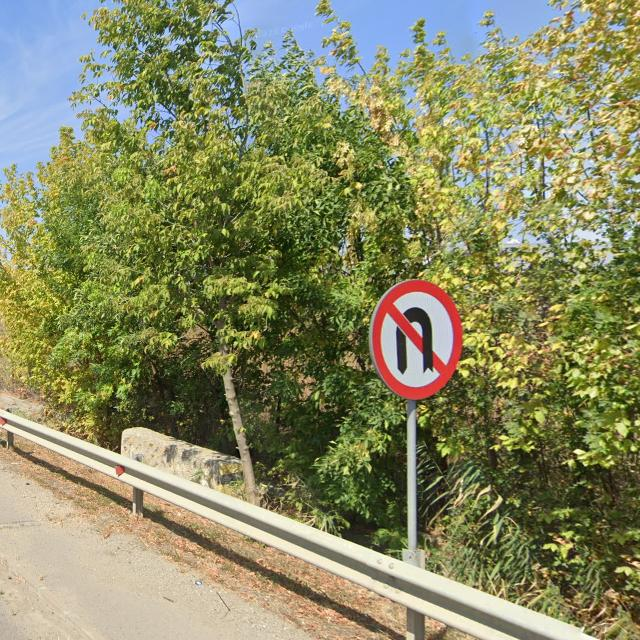forb_u_turn: (370, 278, 464, 402)
